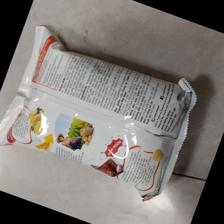Lays: (1, 24, 201, 205)
